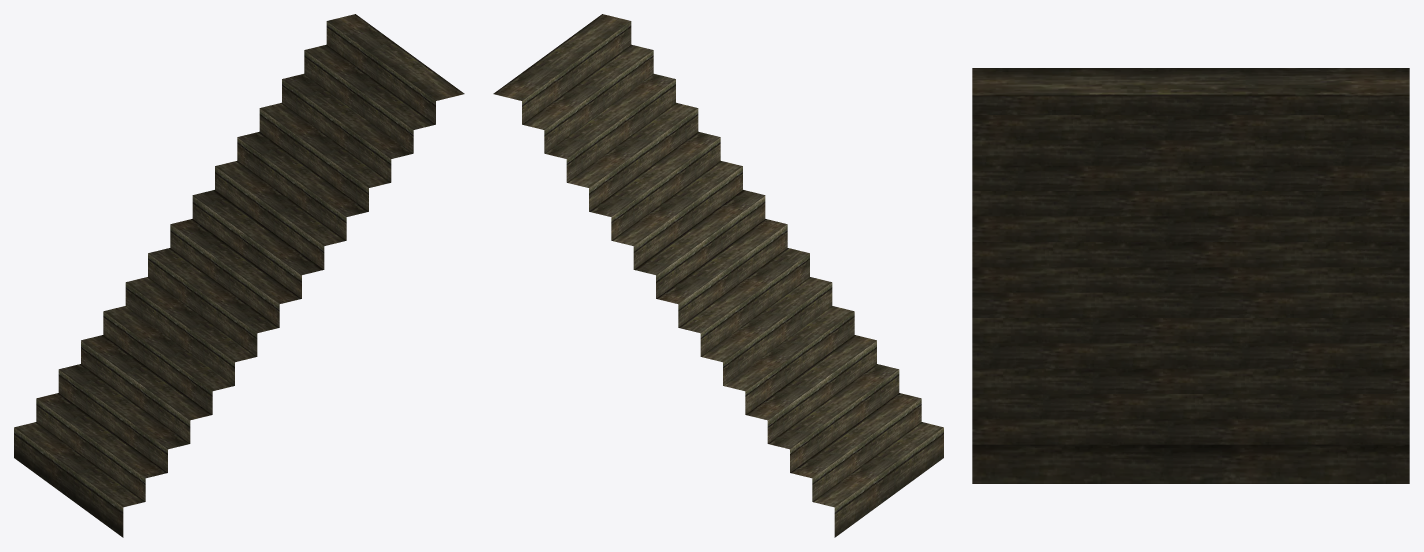
File: OC_LOB_STAIRS_10.glb
The picture shows the model from 3 angles, left to right: view 1: azimuth 30°, elevation 25°; view 2: azimuth 150°, elevation 25°; view 3: azimuth 270°, elevation 25°; orthographic projection. The views are drawn at different scales.
Visible parts, largest first — view 1: Mesh; view 2: Mesh; view 3: Mesh.
Part boxes in pixels (x1,y1,x2,y2): Mesh: (14, 14, 464, 537); Mesh: (493, 14, 943, 537); Mesh: (972, 68, 1409, 483).
Size of the model in its own units: 5.05 by 5.09 by 2.8.
1 material, 1 textured.
